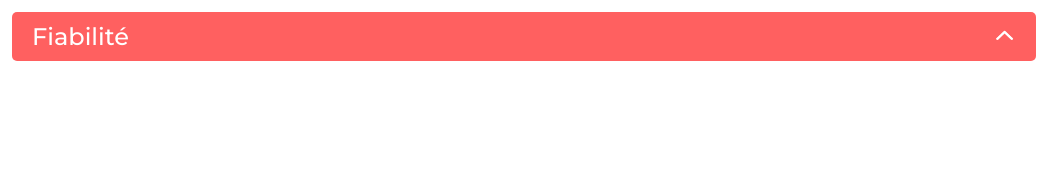
Collapse › se referme au deuxième clic
// Agir : on clique deux fois (ouverture, puis fermeture)
Step 1. Click the button → (80,36), box top-left (12, 12), bottom-right (1036, 61)
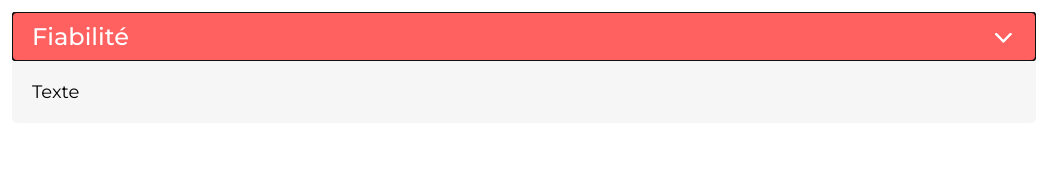
Step 2. Click the button → (80,36), box top-left (12, 12), bottom-right (1036, 61)
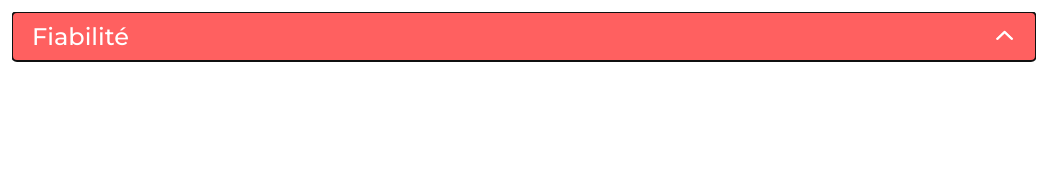
Now the button is collapsed, box top-left (12, 12), bottom-right (1036, 61)
